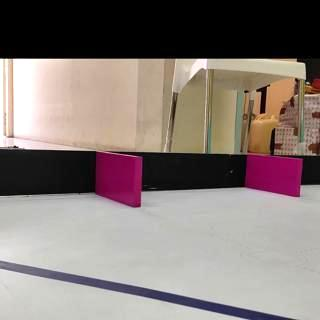xparking: (100, 156, 140, 206), (248, 159, 300, 197)
